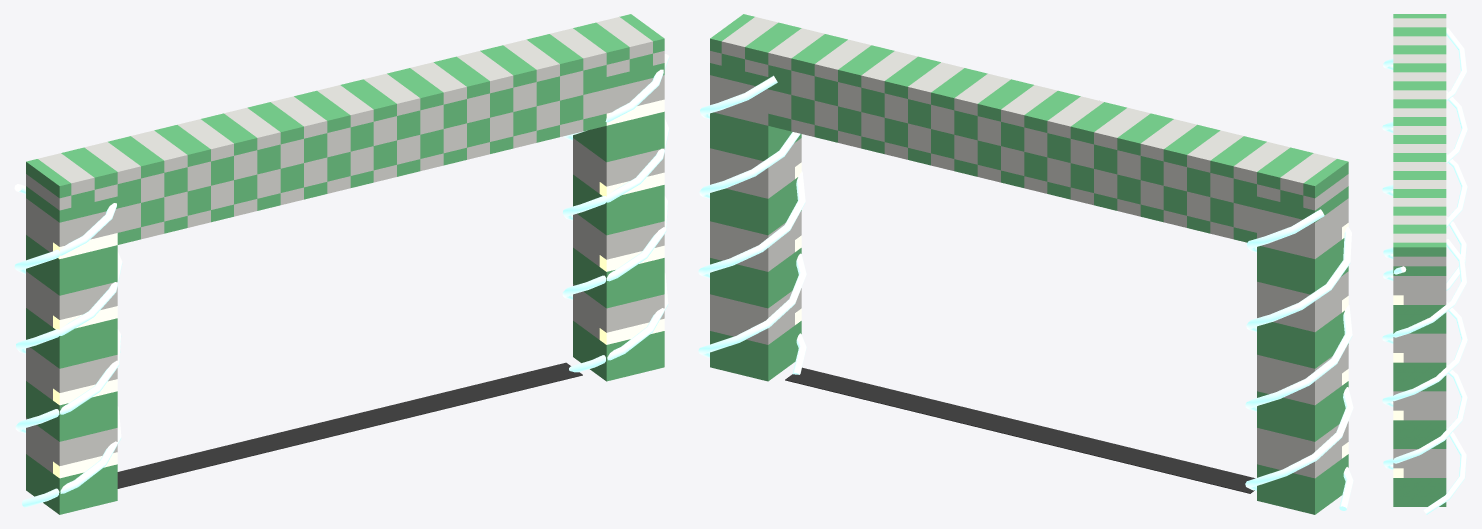
File: T05_StartFinish_Gate.glb
The picture shows the model from 3 angles, left to right: view 1: azimuth 30°, elevation 25°; view 2: azimuth 150°, elevation 25°; view 3: azimuth 270°, elevation 25°; orthographic projection. The views are drawn at different scales.
Visible parts, largest first — view 1: T05_StartFinish_Gate_Mesh; view 2: T05_StartFinish_Gate_Mesh; view 3: T05_StartFinish_Gate_Mesh.
Part boxes in pixels (x1,y1,x2,y2): T05_StartFinish_Gate_Mesh: (14, 14, 669, 514); T05_StartFinish_Gate_Mesh: (698, 14, 1353, 514); T05_StartFinish_Gate_Mesh: (1382, 14, 1467, 514).
Size of the model in its own units: 11.01 by 5.45 by 1.62.
